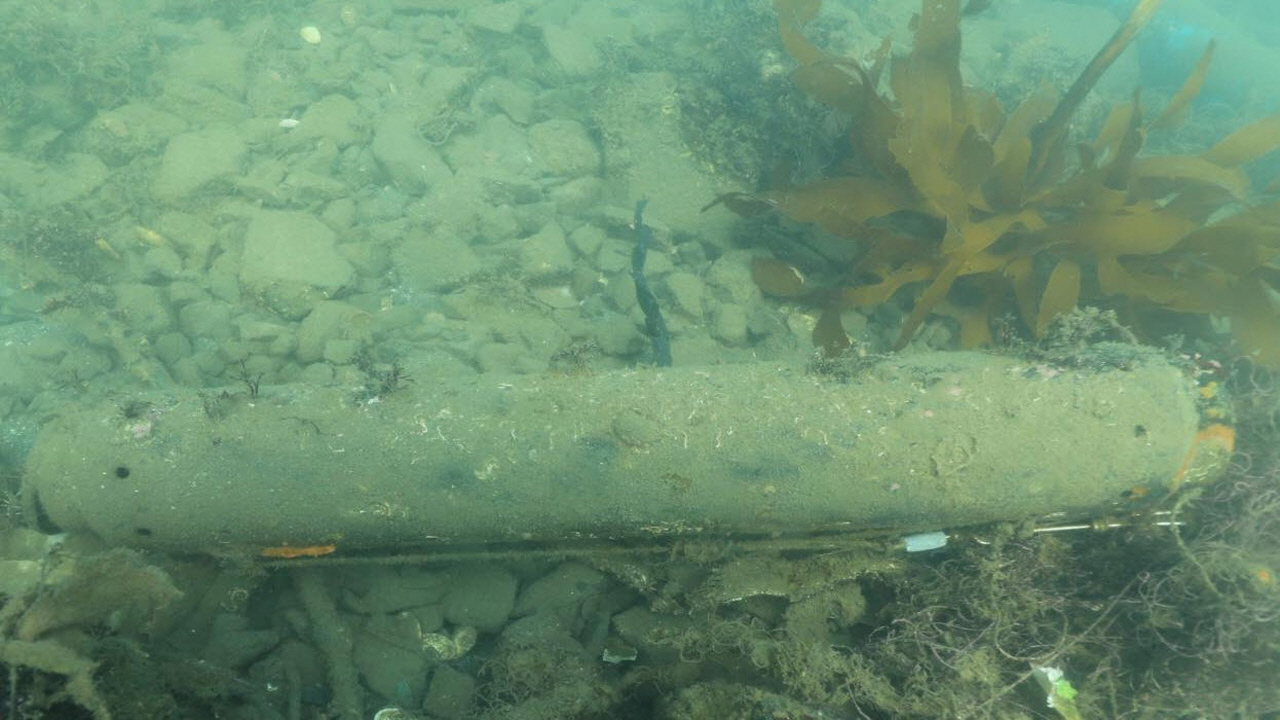eel fish trap: (21, 345, 1240, 548)
